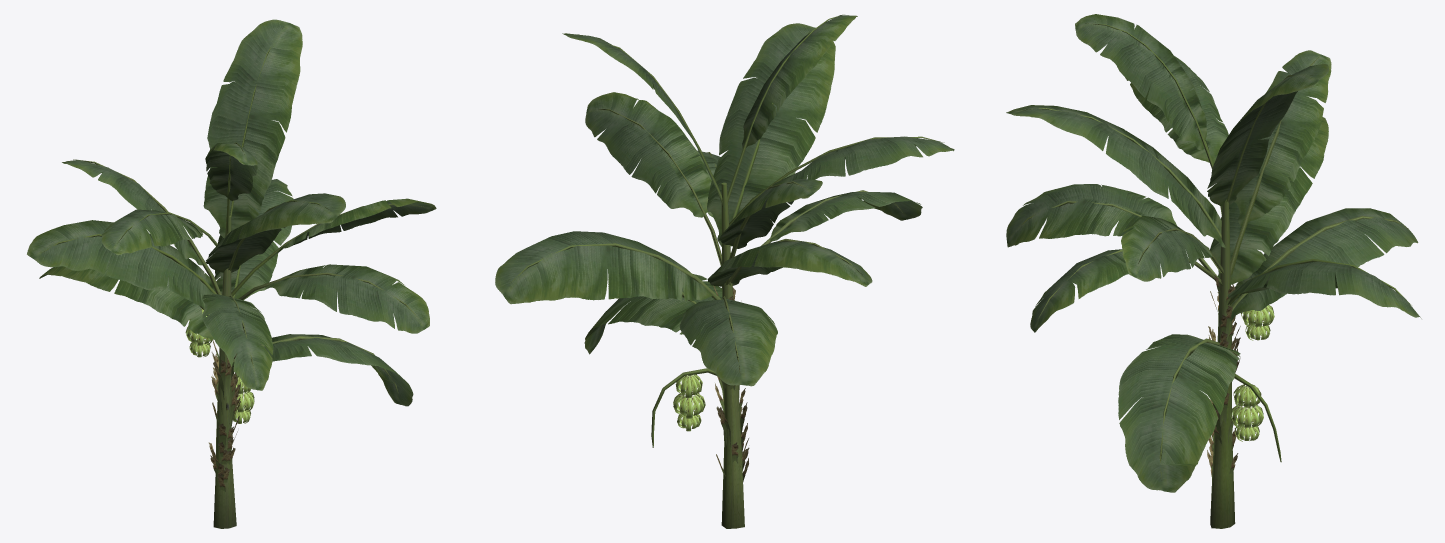
Rendered from Musa_Acuminata_Autumn_Adult.glb.
3 renders of one model, left to right at view 1: azimuth 30°, elevation 25°; view 2: azimuth 150°, elevation 25°; view 3: azimuth 270°, elevation 25°, orthographic. The views are drawn at different scales.
Parts seen in each view (by area): view 1: Musa_Acuminata_Autumn_Adult__LOD3; view 2: Musa_Acuminata_Autumn_Adult__LOD3; view 3: Musa_Acuminata_Autumn_Adult__LOD3.
Boxes of the visible parts, x1,y1,x2,y2 form: Musa_Acuminata_Autumn_Adult__LOD3: [27, 19, 436, 528]; Musa_Acuminata_Autumn_Adult__LOD3: [495, 14, 954, 528]; Musa_Acuminata_Autumn_Adult__LOD3: [1006, 14, 1421, 528].
Bounding box in the file's own units: 3.77 × 4.64 × 3.6.
Materials: 3 (3 with a texture image).
